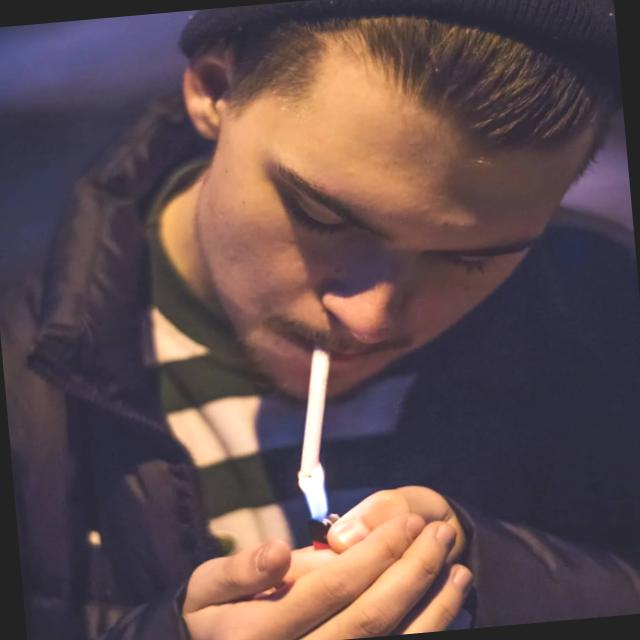cigarette: (284, 338, 347, 493)
